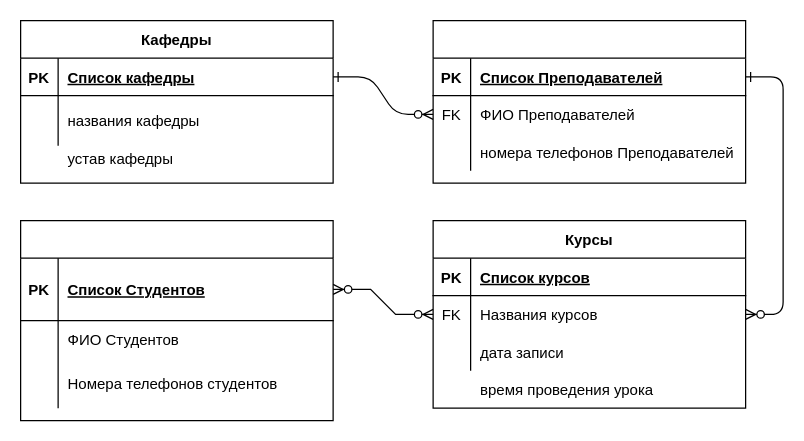
The diagram is 804 pixels wide and 441 high, and some of its shapes have lost their labels. Each missing label, with the box of its shape:
Преподаватели: (432, 19, 746, 183)
Студенты: (19, 219, 333, 421)
